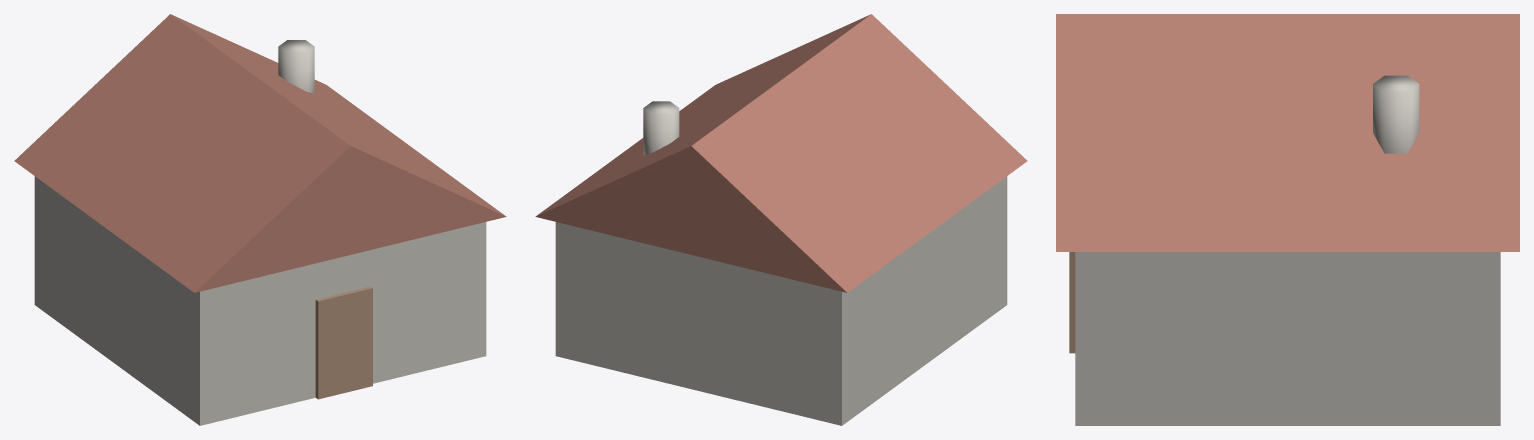
The model's file is stone-house.glb.
3 views of the same model, side by side, from view 1: azimuth 30°, elevation 25°; view 2: azimuth 150°, elevation 25°; view 3: azimuth 270°, elevation 25° (orthographic). The views are drawn at different scales.
Visible parts, largest first — view 1: stone-house_roof, stone-house_stone, stone-house_wood; view 2: stone-house_roof, stone-house_stone; view 3: stone-house_roof, stone-house_stone, stone-house_wood.
Part boxes in pixels (x1,y1,x2,y2): stone-house_roof: [14, 14, 506, 292]; stone-house_stone: [34, 40, 486, 425]; stone-house_wood: [315, 286, 372, 399]; stone-house_roof: [535, 14, 1027, 292]; stone-house_stone: [555, 101, 1007, 425]; stone-house_roof: [1056, 14, 1519, 251]; stone-house_stone: [1075, 75, 1500, 425]; stone-house_wood: [1069, 252, 1075, 353].
Bounding box in the file's own units: 2 × 1.53 × 2.
